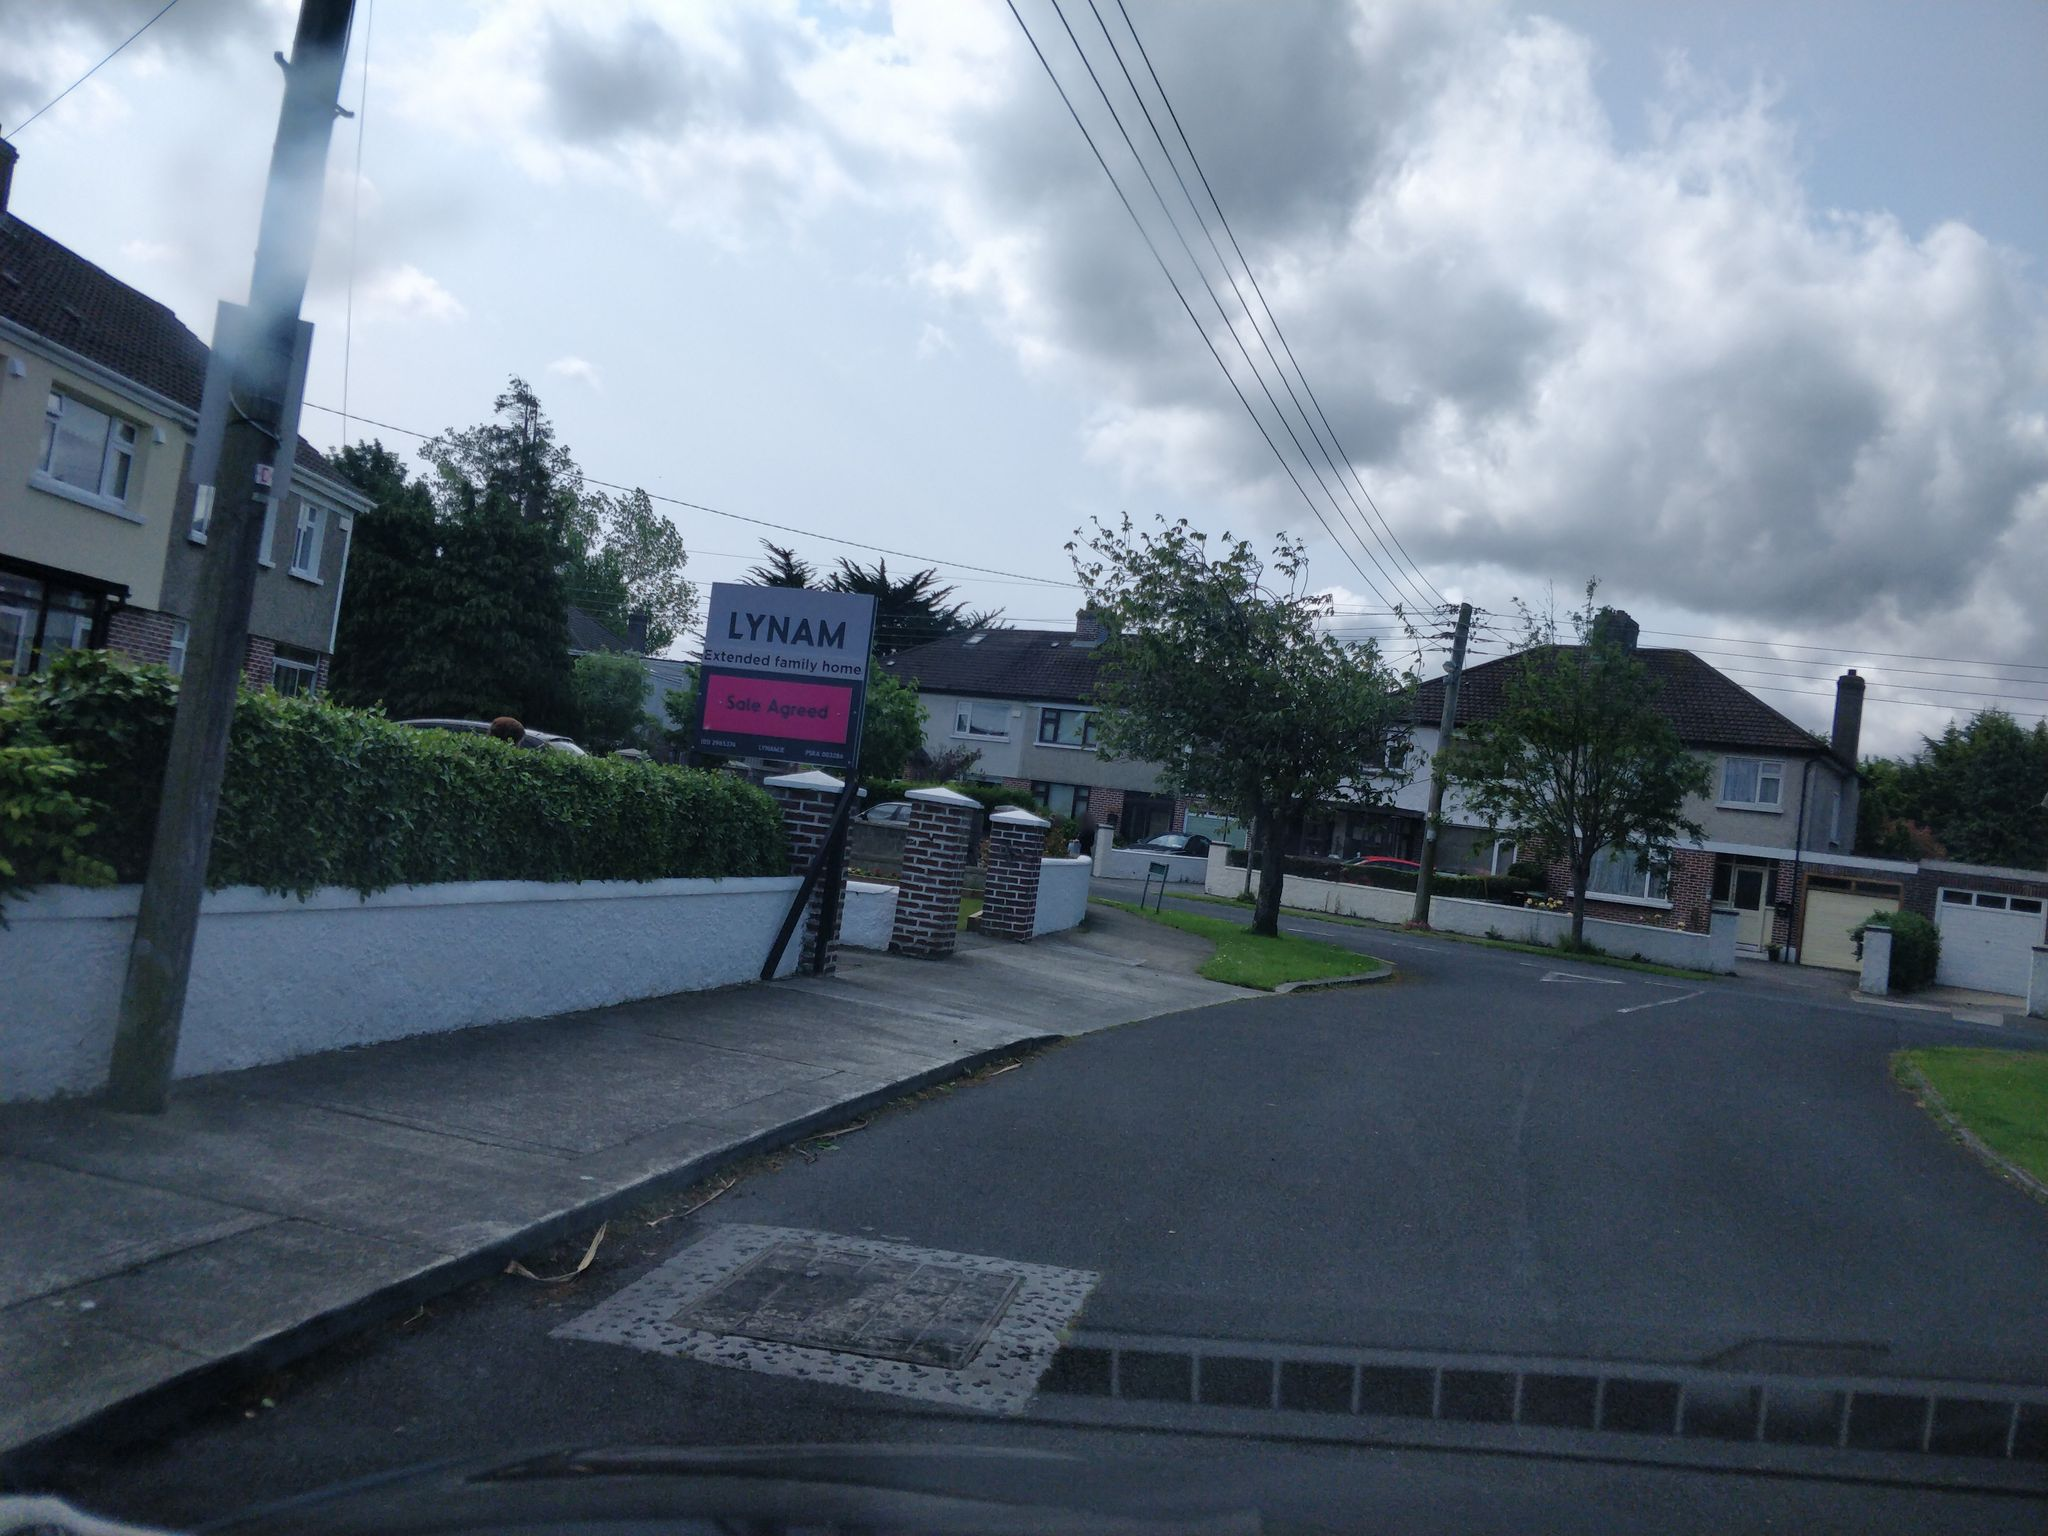property sign: (666, 552, 879, 783)
